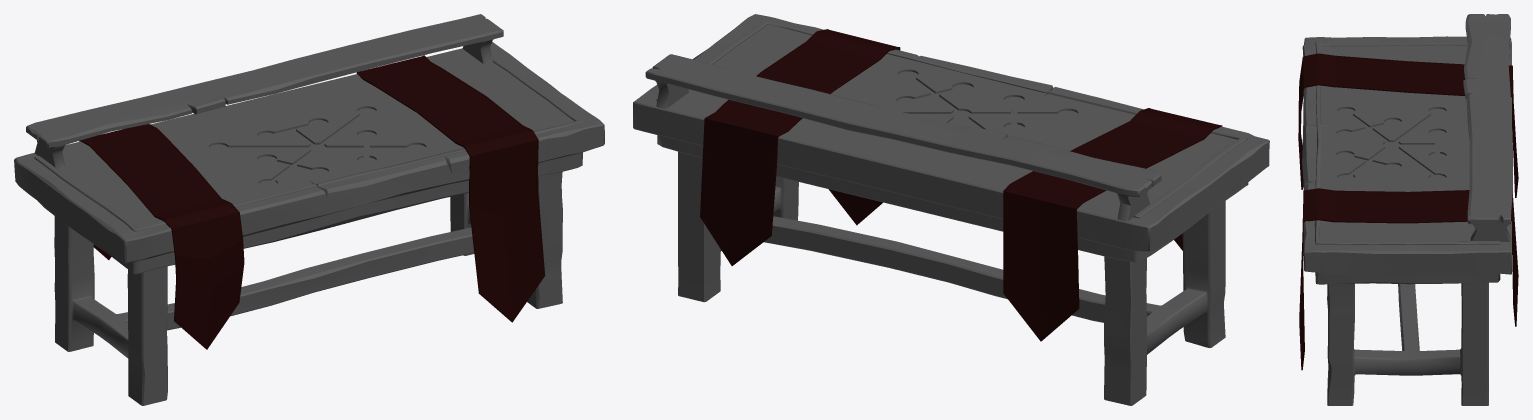
Rendered from Alchemy Table 1.FBX.
3 views of the same model, side by side, from view 1: azimuth 30°, elevation 25°; view 2: azimuth 150°, elevation 25°; view 3: azimuth 270°, elevation 25° (orthographic). The views are drawn at different scales.
Parts seen in each view (by area): view 1: Alch table, ClothTestLauren001; view 2: Alch table, ClothTestLauren001; view 3: Alch table, ClothTestLauren001.
Part boxes in pixels (x1=…): Alch table: x1=14, y1=14, x2=604, y2=405; ClothTestLauren001: x1=79, y1=55, x2=545, y2=349; Alch table: x1=633, y1=14, x2=1269, y2=405; ClothTestLauren001: x1=700, y1=29, x2=1222, y2=341; Alch table: x1=1302, y1=14, x2=1512, y2=405; ClothTestLauren001: x1=1298, y1=53, x2=1518, y2=370.
Size of the model in its own units: 109 by 46.1 by 46.91.
